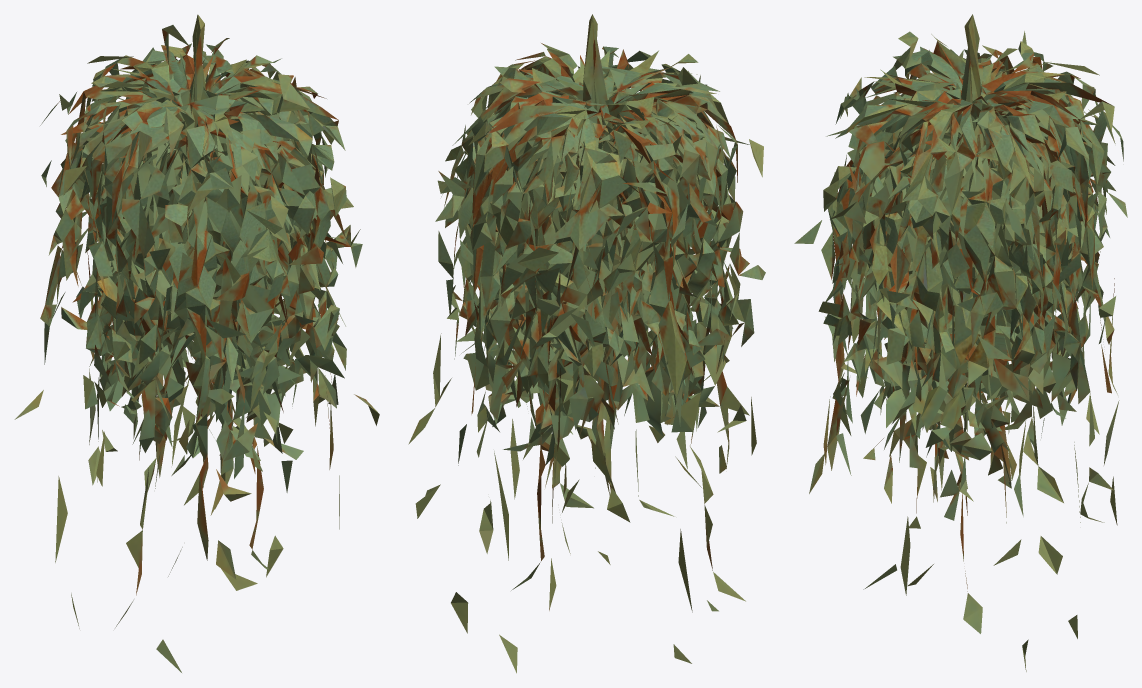
The model's file is liane.glb.
3 views of the same model, side by side, from view 1: azimuth 30°, elevation 25°; view 2: azimuth 150°, elevation 25°; view 3: azimuth 270°, elevation 25° (orthographic). The views are drawn at different scales.
Size of the model in its own units: 0.9156 by 1.84 by 0.9061.
1 material, 1 textured.
